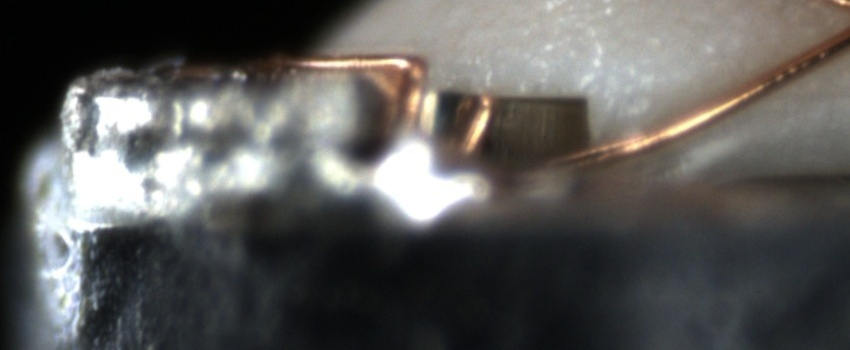DL: (771, 76, 849, 117)
TE: (247, 41, 502, 167)
